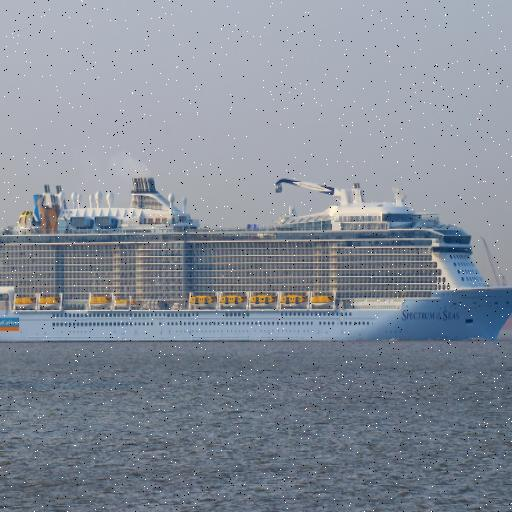cruises: (1, 168, 512, 347)
